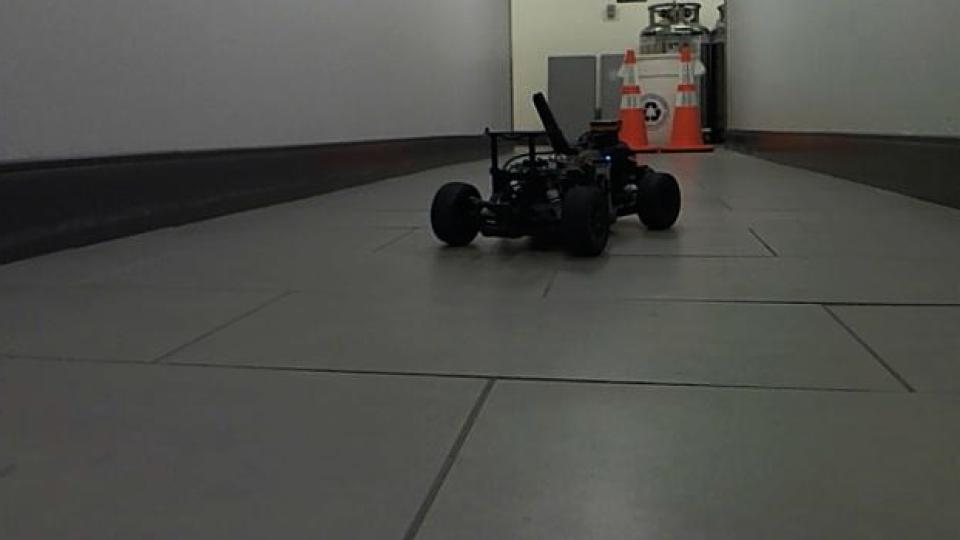car: (428, 90, 685, 259)
